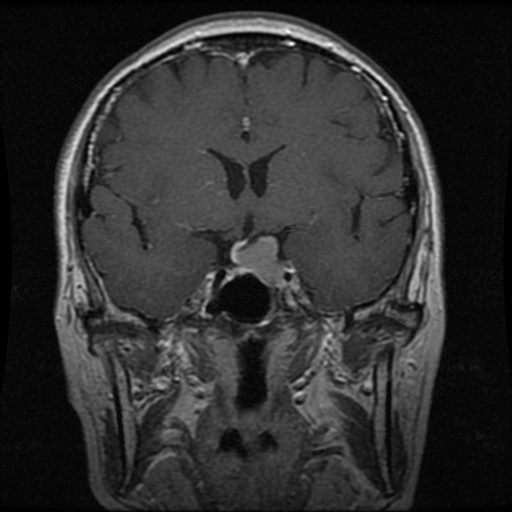pituitary: (235, 235, 284, 282)
